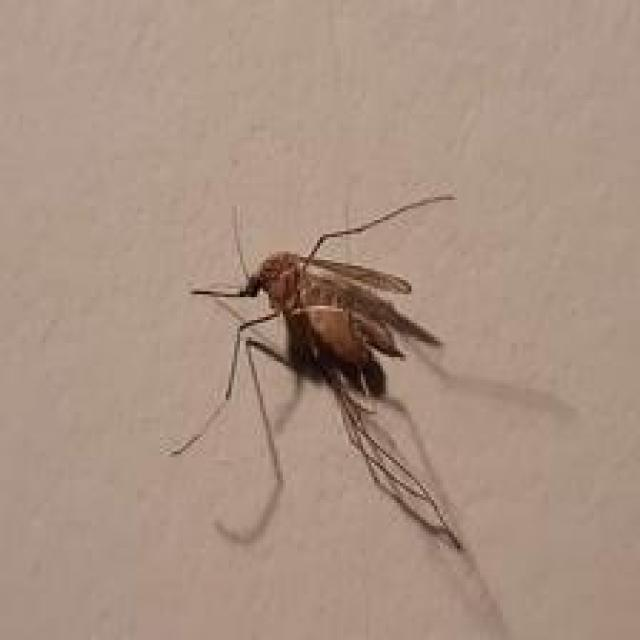Culex: (160, 191, 574, 640)
